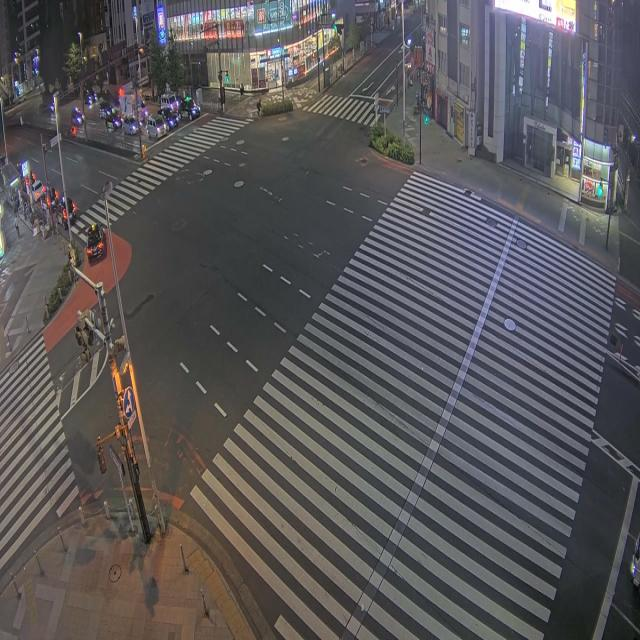car: (86, 224, 105, 262), (55, 202, 76, 229), (147, 114, 167, 139), (179, 96, 200, 119), (60, 195, 77, 223), (158, 107, 179, 129), (631, 537, 639, 588), (160, 93, 179, 111), (123, 116, 139, 135), (106, 112, 122, 131), (32, 180, 46, 201), (99, 101, 114, 119), (71, 107, 84, 126), (39, 101, 54, 115), (84, 90, 97, 105)
van: (160, 94, 178, 111)
